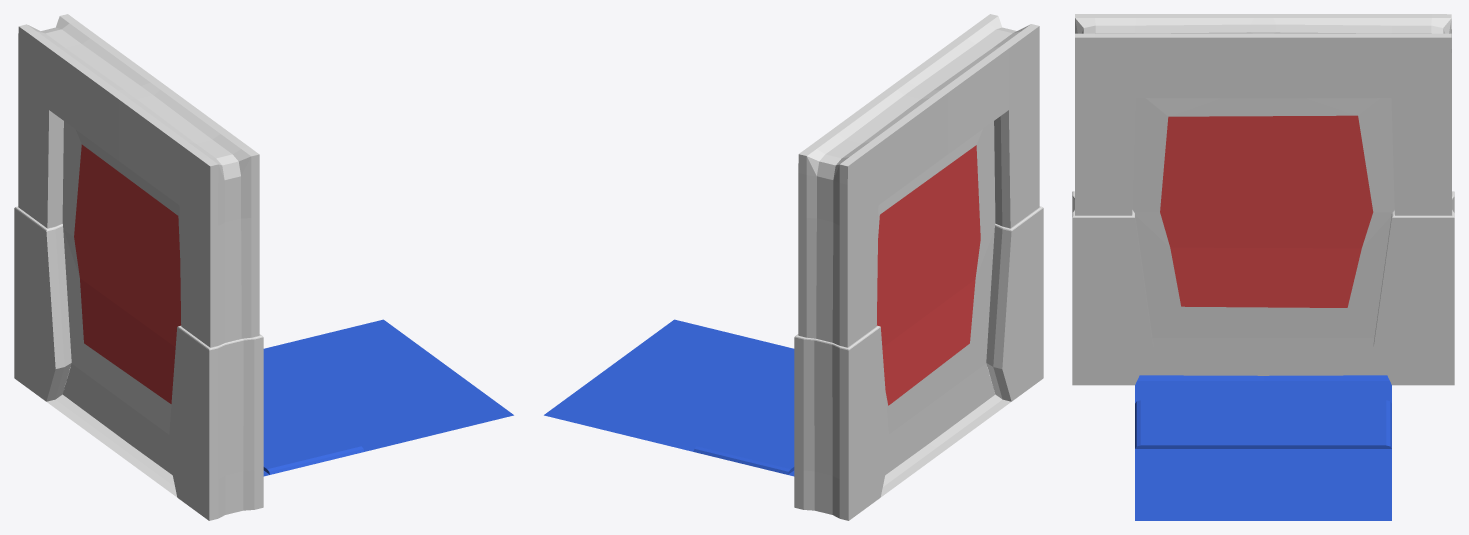
The model's file is Security_Door 1.fbx.
3 renders of one model, left to right at view 1: azimuth 30°, elevation 25°; view 2: azimuth 150°, elevation 25°; view 3: azimuth 270°, elevation 25°, orthographic.
Parts seen in each view (by area): view 1: Frame, Door; view 2: Frame, Door; view 3: Frame, Door.
Boxes of the visible parts, bbox=[...] form: Frame: bbox=[14, 14, 513, 520]; Door: bbox=[62, 121, 181, 474]; Frame: bbox=[544, 14, 1043, 520]; Door: bbox=[876, 121, 995, 474]; Frame: bbox=[1072, 14, 1454, 520]; Door: bbox=[1132, 98, 1394, 375].
Bounding box in the file's own units: 200 × 200 × 200.
